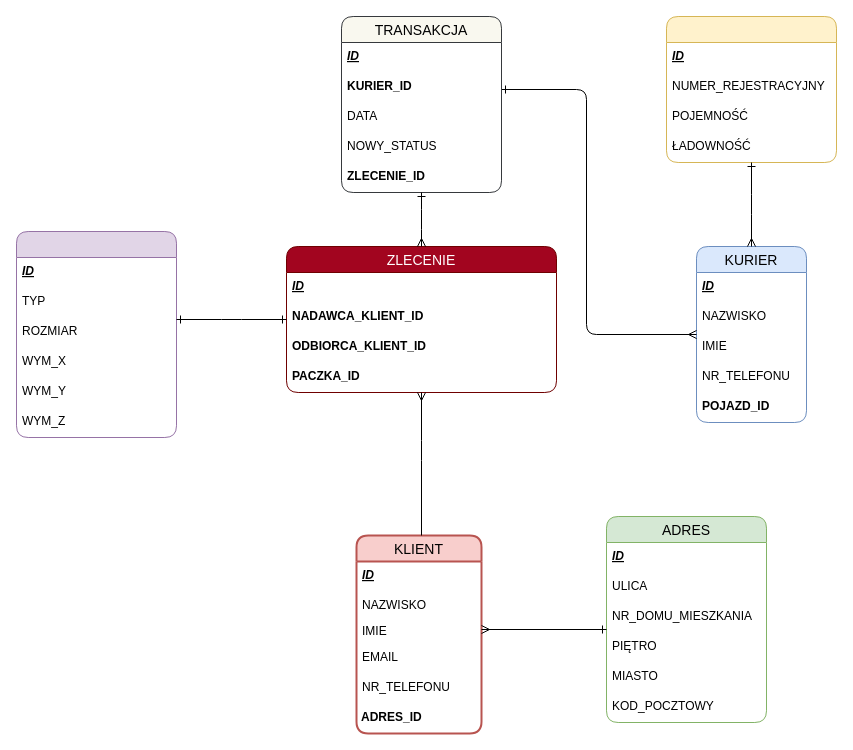
This 853x750 diagram has some shape labels left out. Each missing label, with the box of its shape:
PACZKA: (16, 230, 176, 438)
POJAZD: (666, 16, 836, 162)
